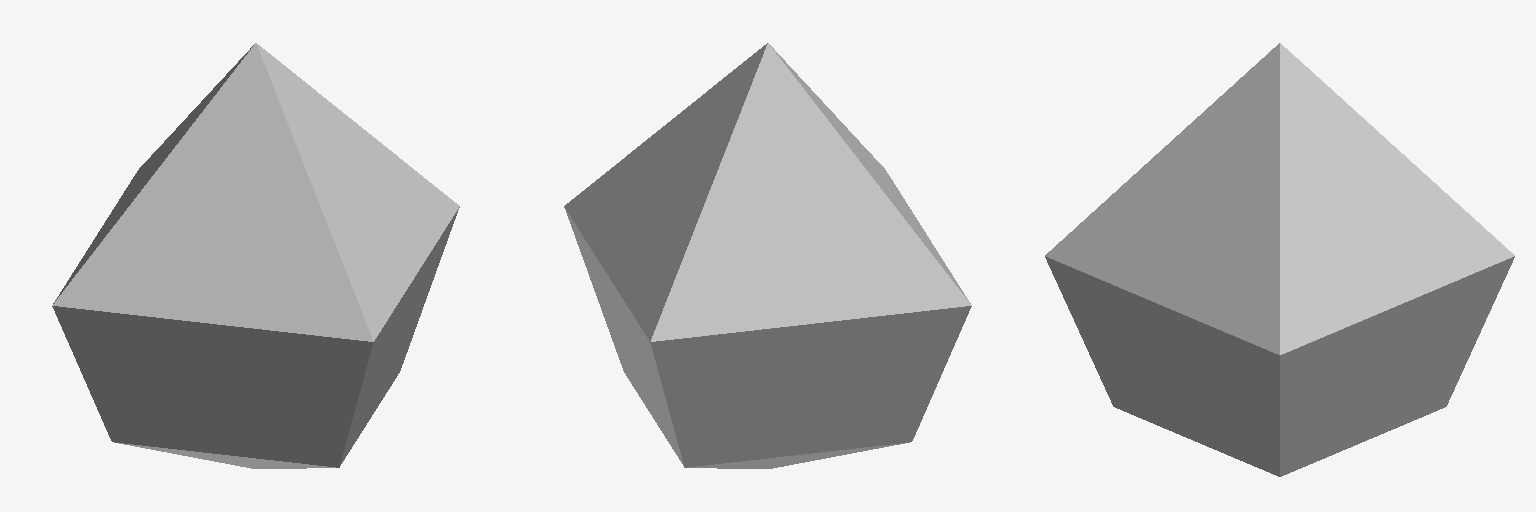
The model's file is objAnotexture.obj.
3 views of the same model, side by side, from view 1: azimuth 30°, elevation 25°; view 2: azimuth 150°, elevation 25°; view 3: azimuth 270°, elevation 25° (orthographic).
Bounding box in the file's own units: 1.41 × 1.41 × 1.41.